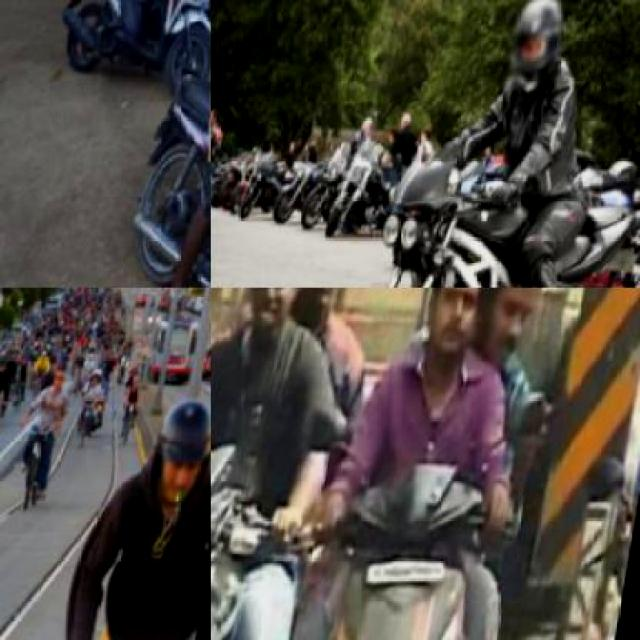With Helmet: (500, 0, 572, 100), (153, 397, 210, 509)
Without Helmet: (471, 288, 555, 382), (418, 287, 498, 378), (237, 288, 318, 344), (292, 288, 366, 332), (54, 371, 71, 394)
